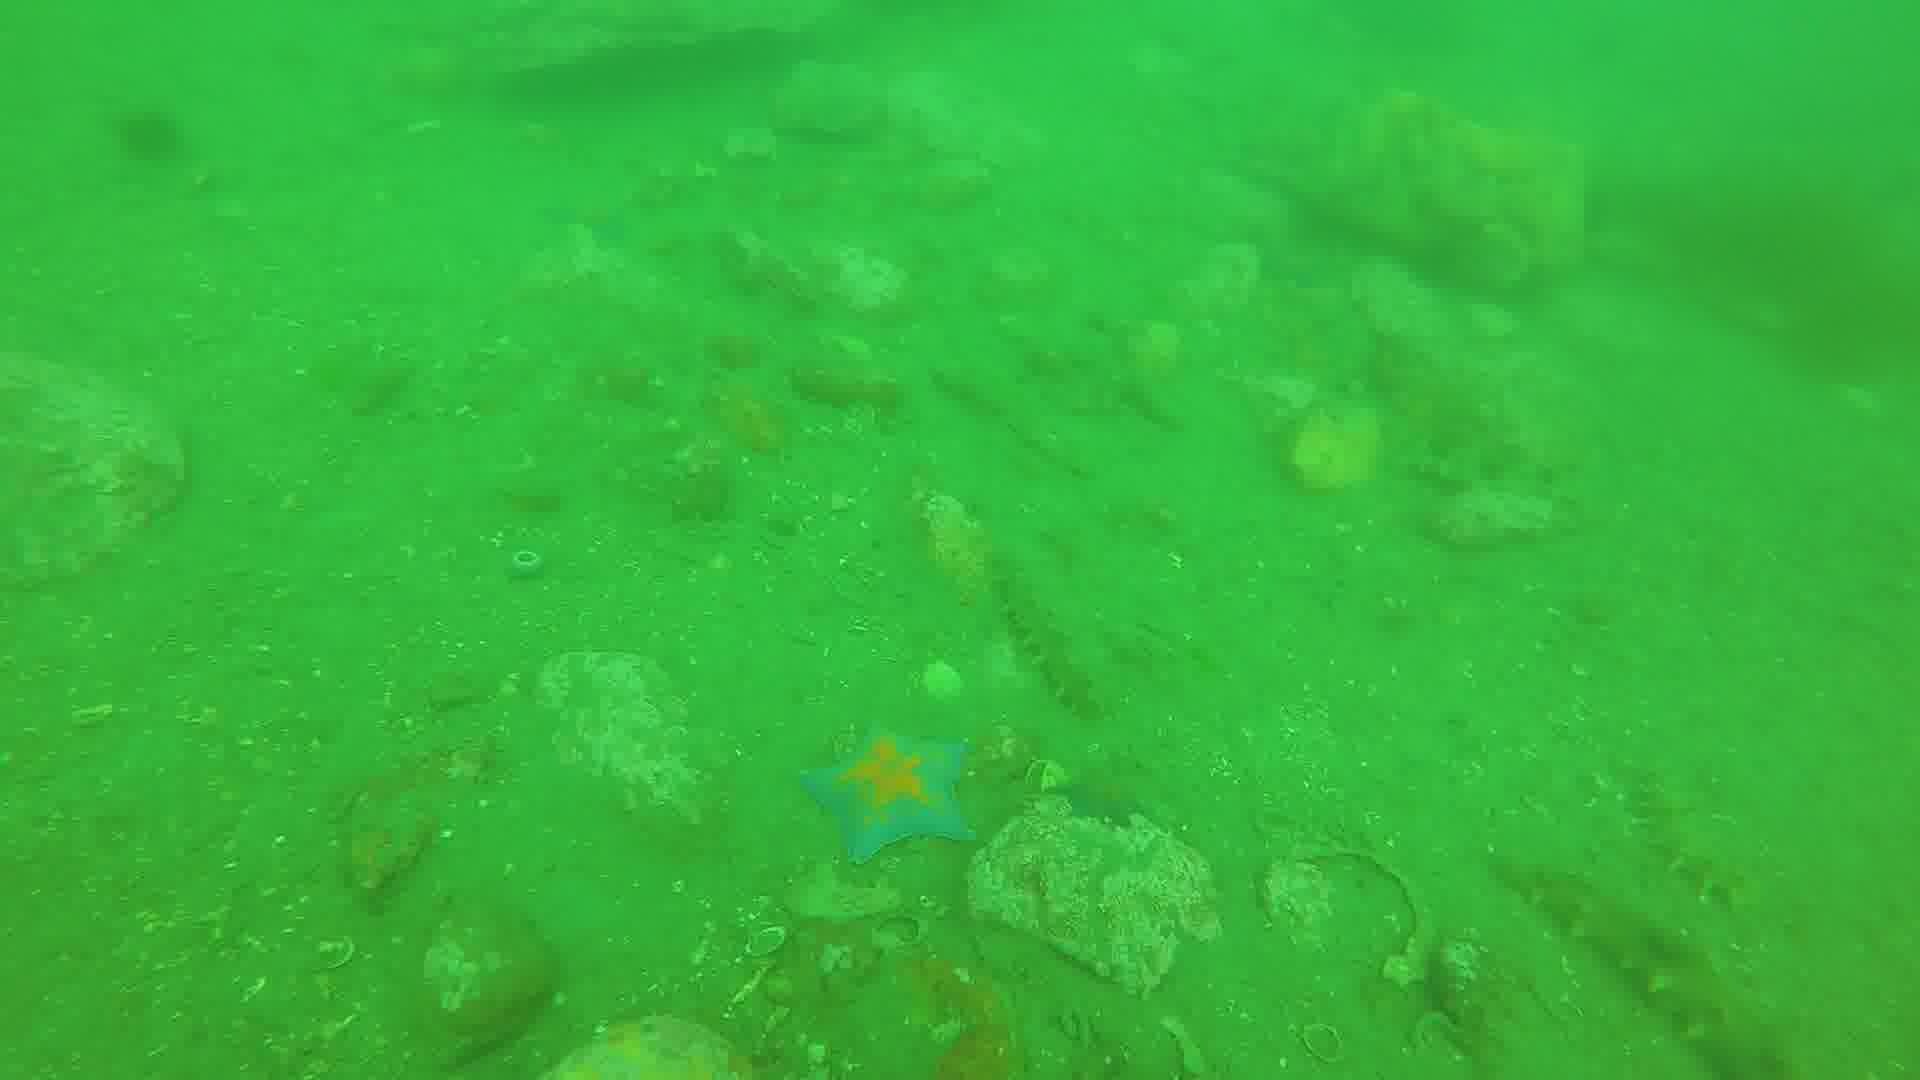echinus: (115, 105, 179, 170)
holothurian: (1507, 862, 1774, 1080), (981, 535, 1120, 717), (1635, 758, 1764, 906)
starfish: (804, 728, 980, 862), (549, 185, 629, 257)
